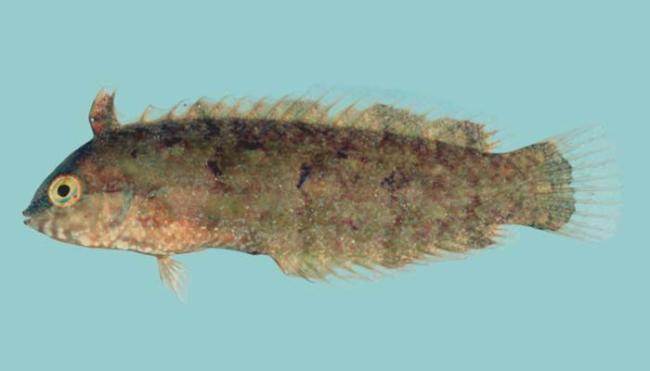fish: (22, 85, 623, 304)
